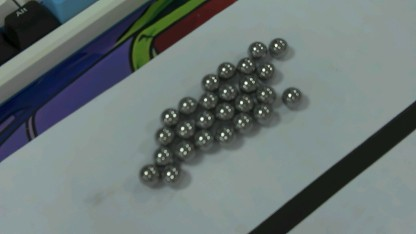ironball: (233, 51, 256, 75), (266, 33, 289, 56), (135, 163, 159, 184), (195, 126, 215, 150), (252, 101, 273, 123), (254, 56, 274, 79), (190, 110, 215, 128), (254, 82, 274, 104), (233, 112, 253, 133), (215, 124, 235, 145), (174, 140, 195, 160), (160, 162, 180, 182), (279, 86, 300, 105), (215, 58, 234, 78), (198, 91, 217, 111), (215, 102, 234, 122), (151, 144, 170, 164), (176, 95, 198, 112), (217, 83, 237, 101), (174, 119, 194, 137), (152, 125, 172, 142), (200, 73, 218, 91), (157, 109, 176, 125), (248, 39, 265, 56), (236, 91, 252, 109), (240, 74, 255, 91)
